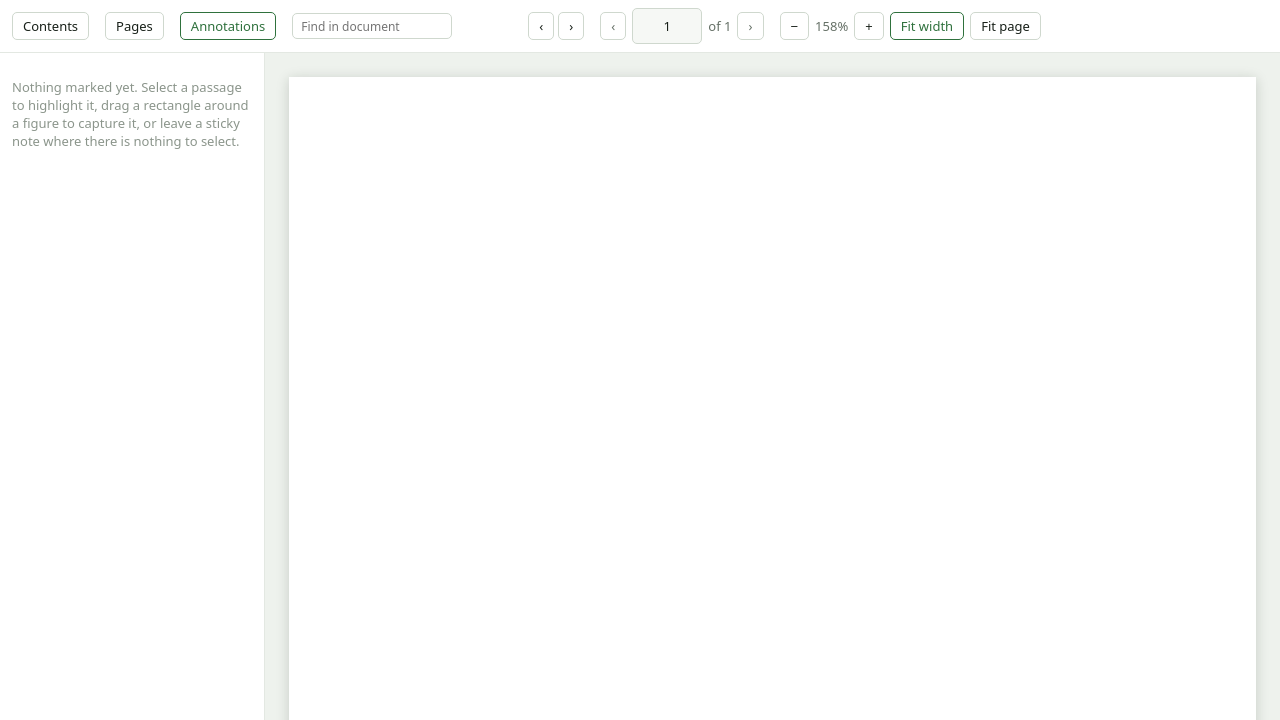
Test case: finding words in a document › clears the marks when the box is emptied
Check: the text "of 1" is shown, box [708,17,732,35]
Step 1. Type "ribosome" into the search field labelled "Find in document" → [372, 26], box [292,13,452,39]
Then press Enter
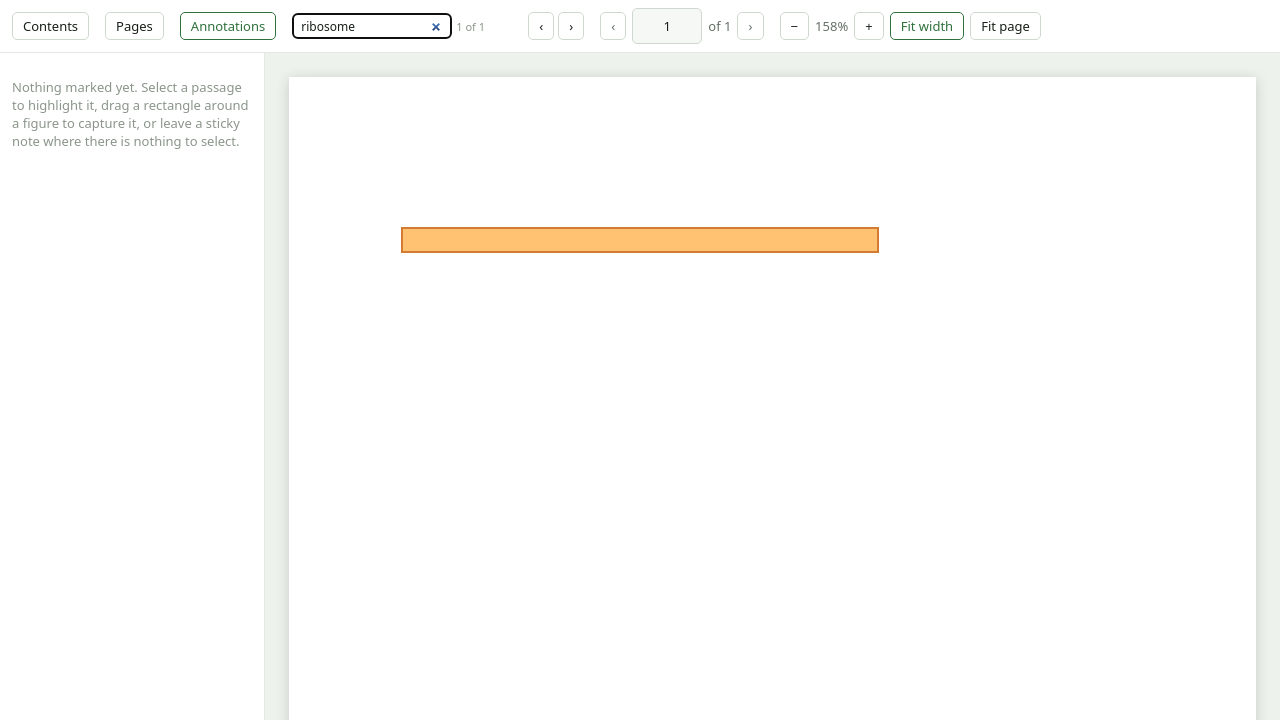
Check: the text "1 of 1" is shown, box [456,18,485,34]
Step 2. Clear the search field named "Find in document" → [372, 26], box [292,13,452,39]
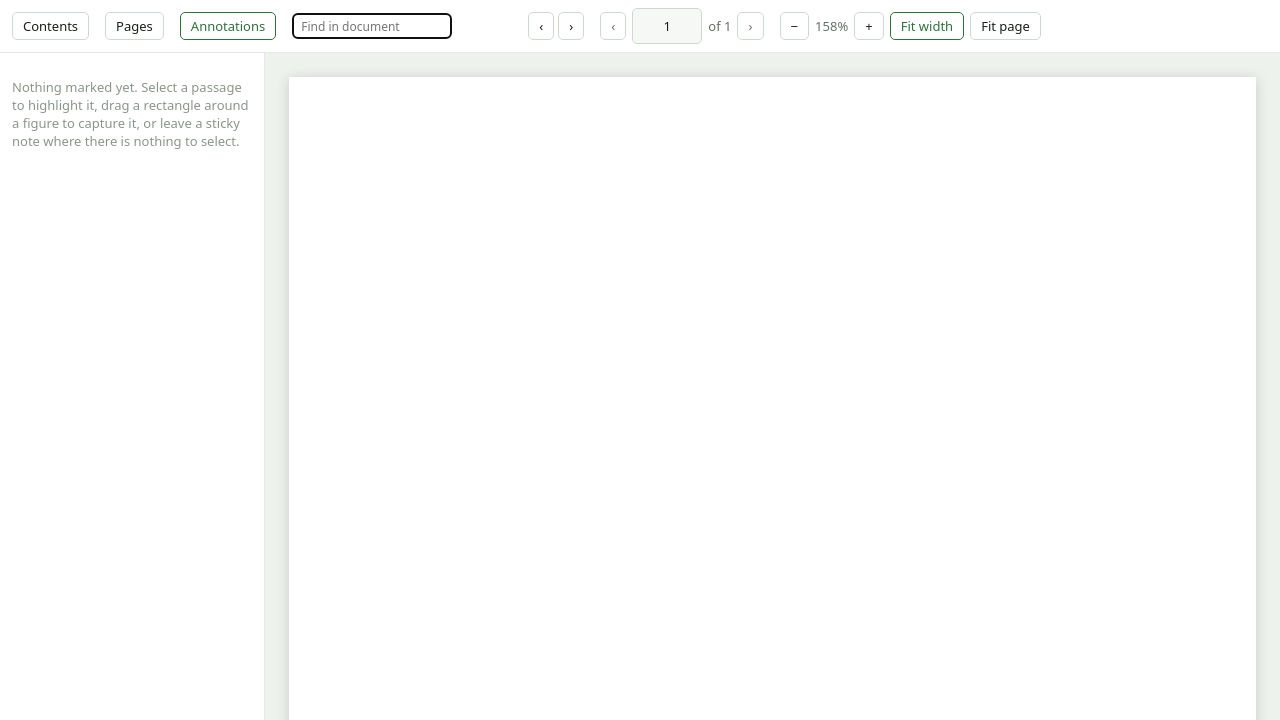
Check: the text "1 of 1" is gone
